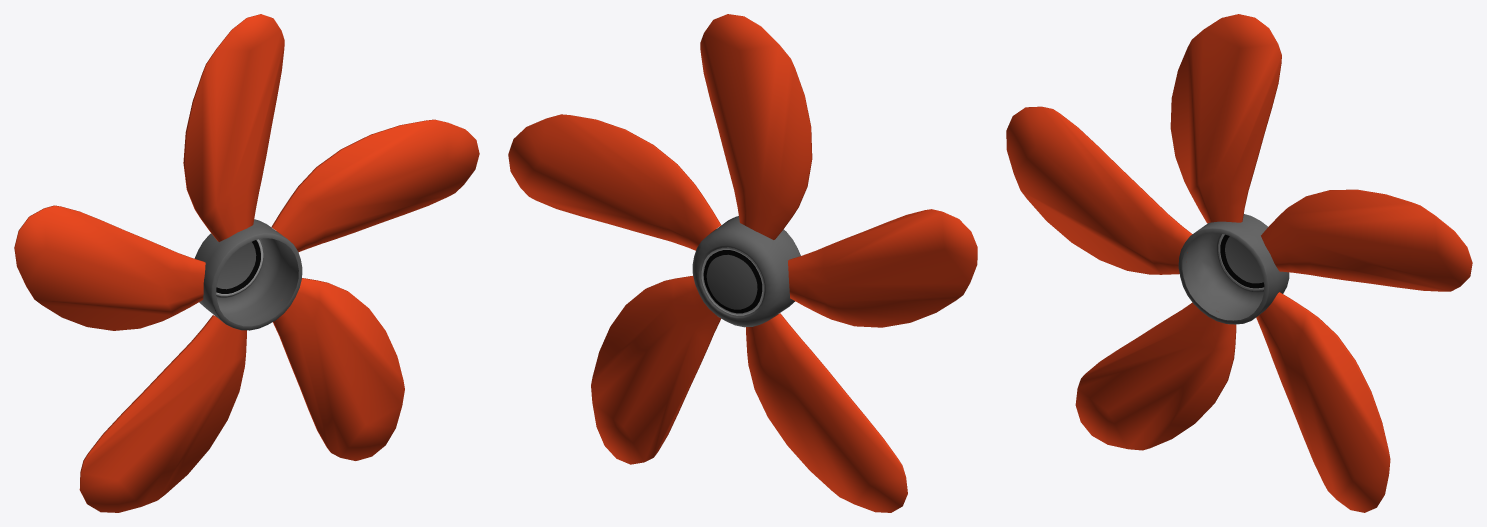
File: prof_back_5.fbx
3 renders of one model, left to right at view 1: azimuth 30°, elevation 25°; view 2: azimuth 150°, elevation 25°; view 3: azimuth 330°, elevation 25°, orthographic.
Visible parts, largest first — view 1: Propeller.004; view 2: Propeller.004; view 3: Propeller.004.
Part boxes in pixels (bbox=[...]): Propeller.004: bbox=[14, 14, 479, 512]; Propeller.004: bbox=[508, 14, 977, 512]; Propeller.004: bbox=[1006, 14, 1472, 512].
Bounding box in the file's own units: 377 × 364 × 38.4.
